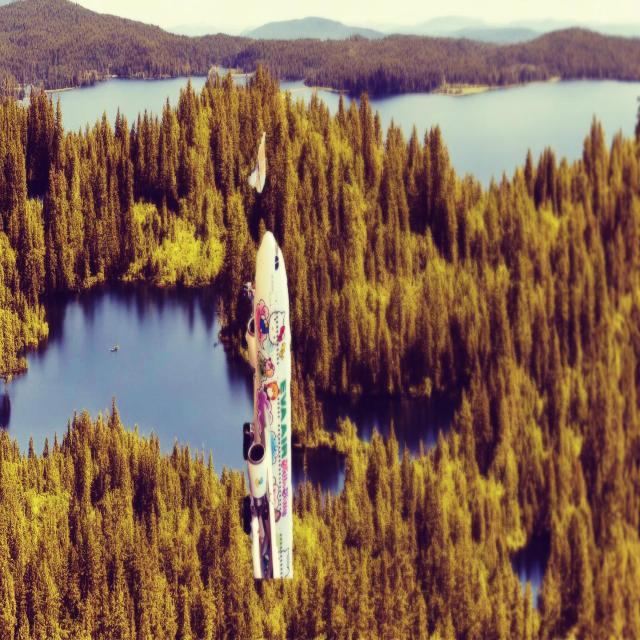airplane: (242, 230, 293, 580)
